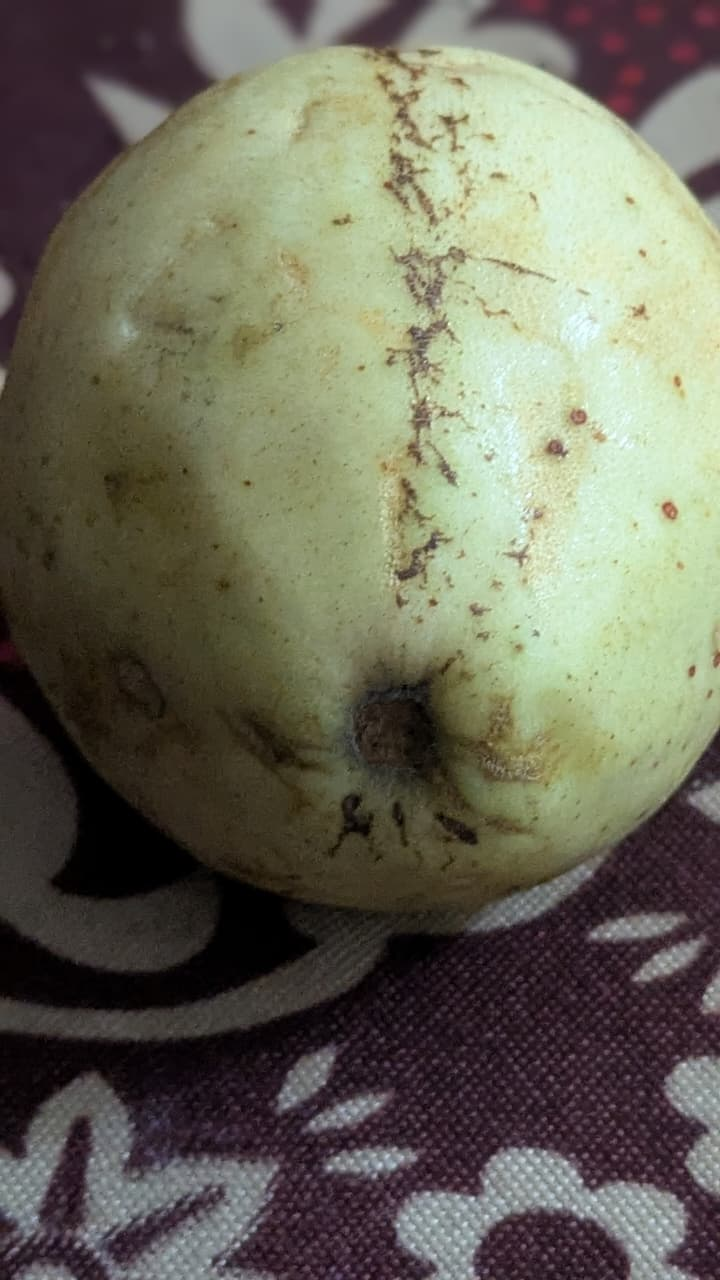guava: (162, 141, 642, 1198)
